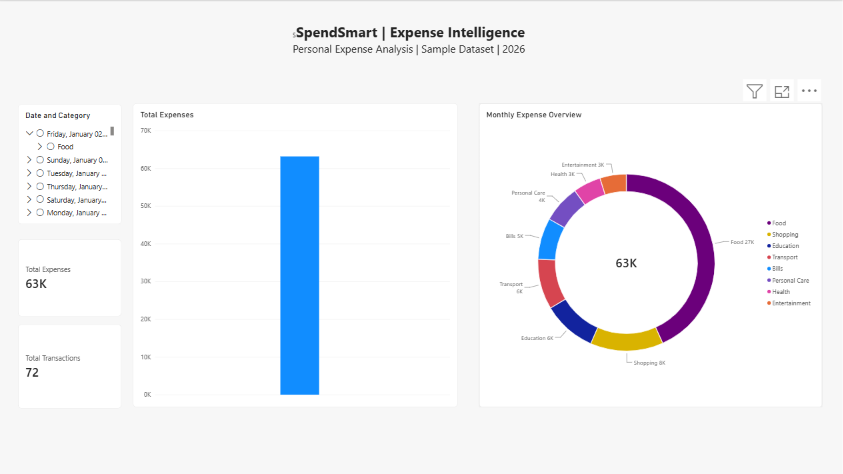

The dashboard page shown, as its layout file describes it:
{"tool":"powerbi","page":{"name":"Page 1","canvas":[1920,1080],"ordinal":0},"visuals":[{"type":"cardVisual","fields":{"Data":["SpendSmart_Expenses.Total Expenses"]},"box":[45,540,235,175],"z":0},{"type":"clusteredColumnChart","fields":{"Y":["SpendSmart_Expenses.Total Expenses"]},"box":[307.5,232.5,737.5,690],"z":1000},{"type":"donutChart","title":"Monthly  Expense Overview","fields":{"Category":["SpendSmart_Expenses.Category"],"Series":["SpendSmart_Expenses.Category"],"Y":["Sum(SpendSmart_Expenses.Amount_INR)"]},"box":[1092.5,232.5,780,690],"z":2000},{"type":"cardVisual","fields":{"Data":["SpendSmart_Expenses.Total Transactions"]},"box":[45,733.3,235,191.7],"z":3000},{"type":"textbox","box":[68.3,48.3,1730,140],"z":4000},{"type":"textbox","box":[1770,455,150,243],"z":5000},{"type":"listSlicer","fields":{"Values":["SpendSmart_Expenses.Date","SpendSmart_Expenses.Category","SpendSmart_Expenses.Payment_Method"]},"box":[45,233.3,235,271.7],"z":6000}]}

Visuals, with their boxes in screenshot pixels (x1, y1, x2, y2), scaled from the page's 1920x1080 canvas onto the 843x474 screenshot:
cardVisual - SpendSmart_Expenses.Total Expenses: left=20, top=237, right=123, bottom=314
clusteredColumnChart - SpendSmart_Expenses.Total Expenses: left=135, top=102, right=459, bottom=405
"Monthly  Expense Overview" donutChart: left=480, top=102, right=822, bottom=405
cardVisual - SpendSmart_Expenses.Total Transactions: left=20, top=322, right=123, bottom=406
textbox: left=30, top=21, right=790, bottom=83
textbox: left=777, top=200, right=842, bottom=306
listSlicer - SpendSmart_Expenses.Date x SpendSmart_Expenses.Category: left=20, top=102, right=123, bottom=222
